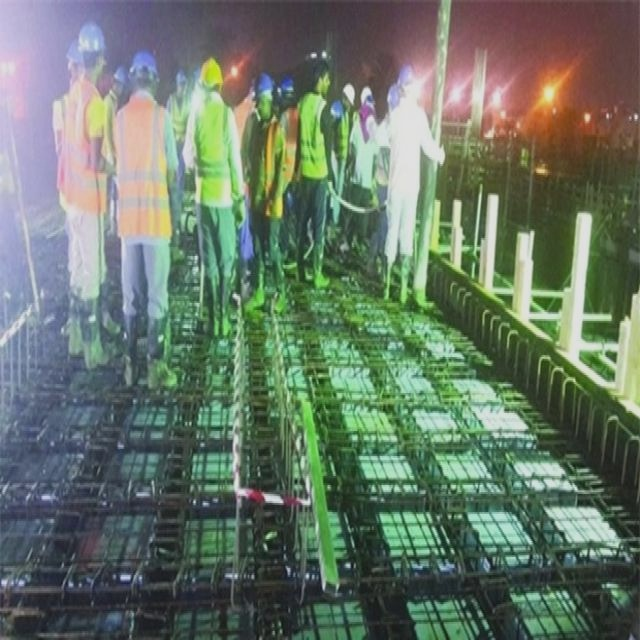Con_Chaleco: (113, 96, 172, 239), (58, 79, 106, 210), (189, 97, 235, 205)
